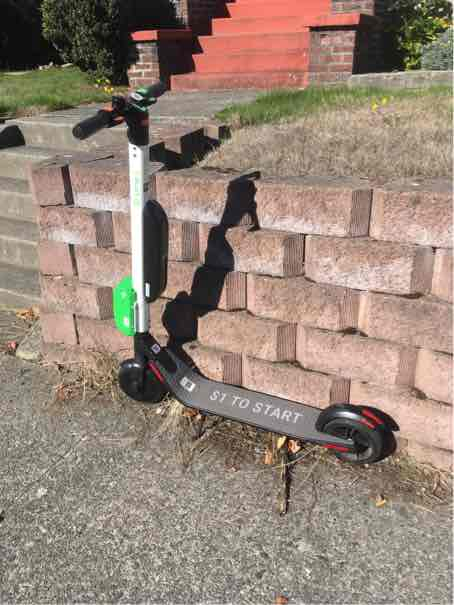scooter: (69, 76, 394, 470)
